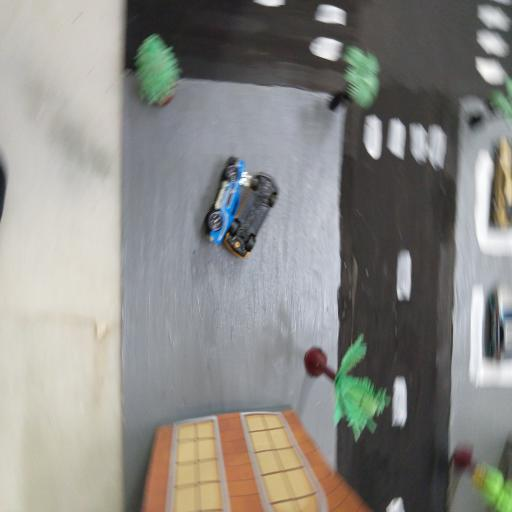car crash: (203, 150, 283, 262), (230, 172, 286, 256), (205, 154, 246, 244)
